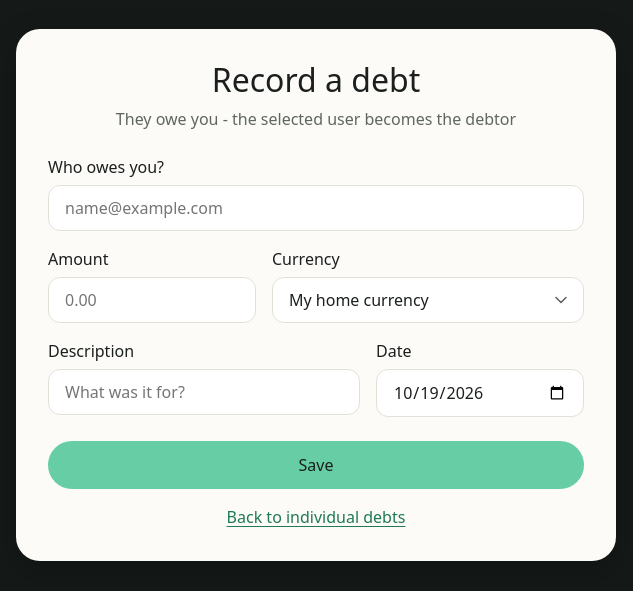
Test: AddIndividualDebt › AC9: requires a counterparty
Type "25.00" into the number field labelled "Amount". click: x=152, y=300
box: [48,277,256,323]
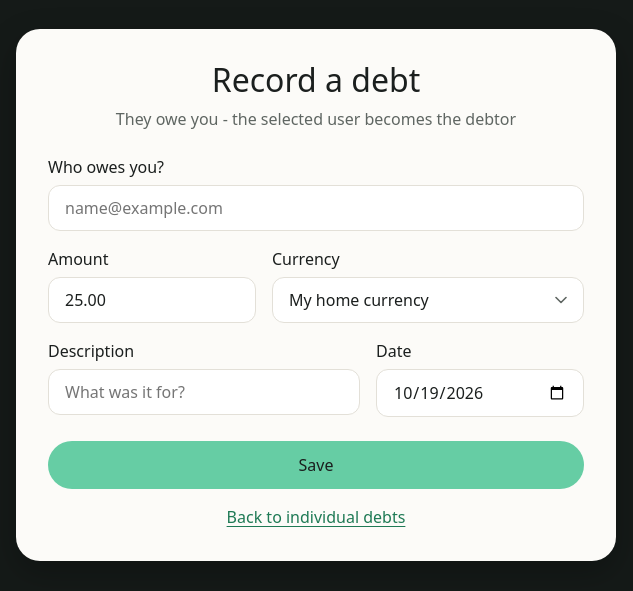
Type "Lunch" into the field labelled "Description". click: x=204, y=392
box: [48,369,360,415]
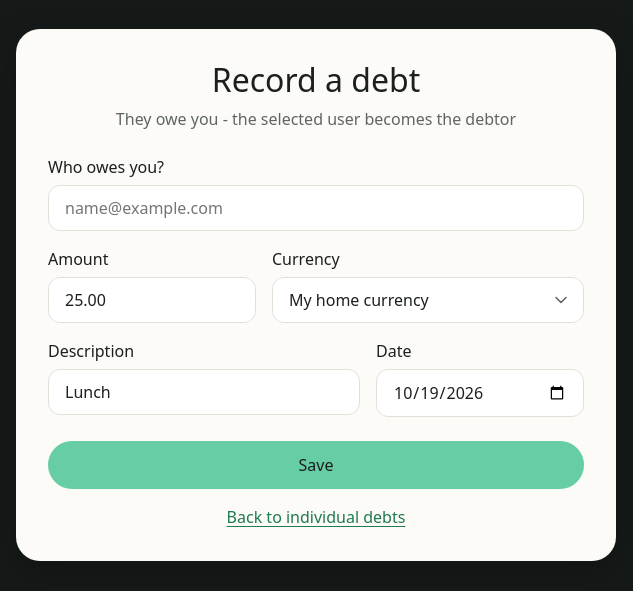
Type "2026-10-01" into the date field labelled "Date". click: x=480, y=393
box: [376,369,584,417]
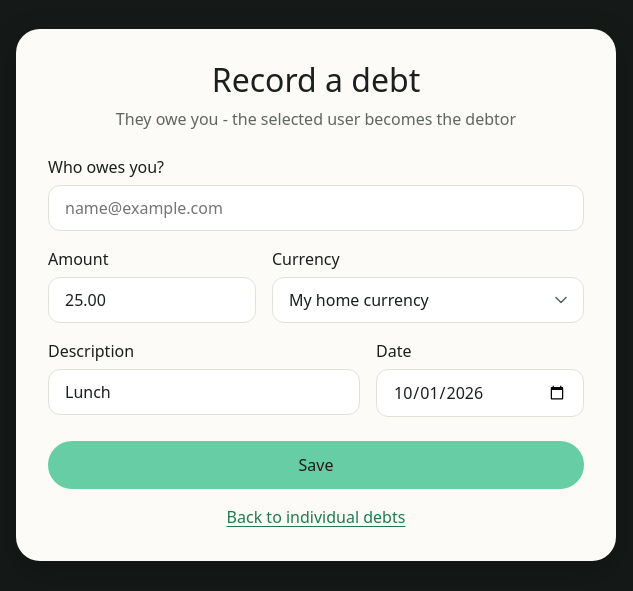
Click the button "Save". click: x=316, y=465
box: [48,441,584,489]
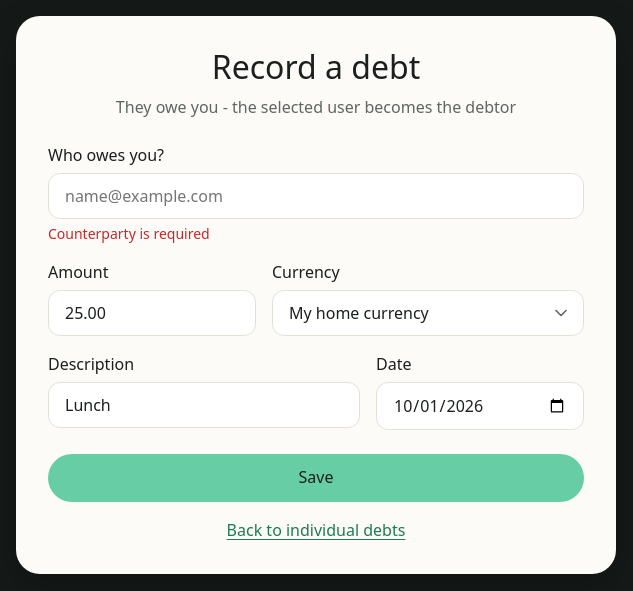
expect the text "Counterparty is required" is shown: met, box [48,224,210,243]
